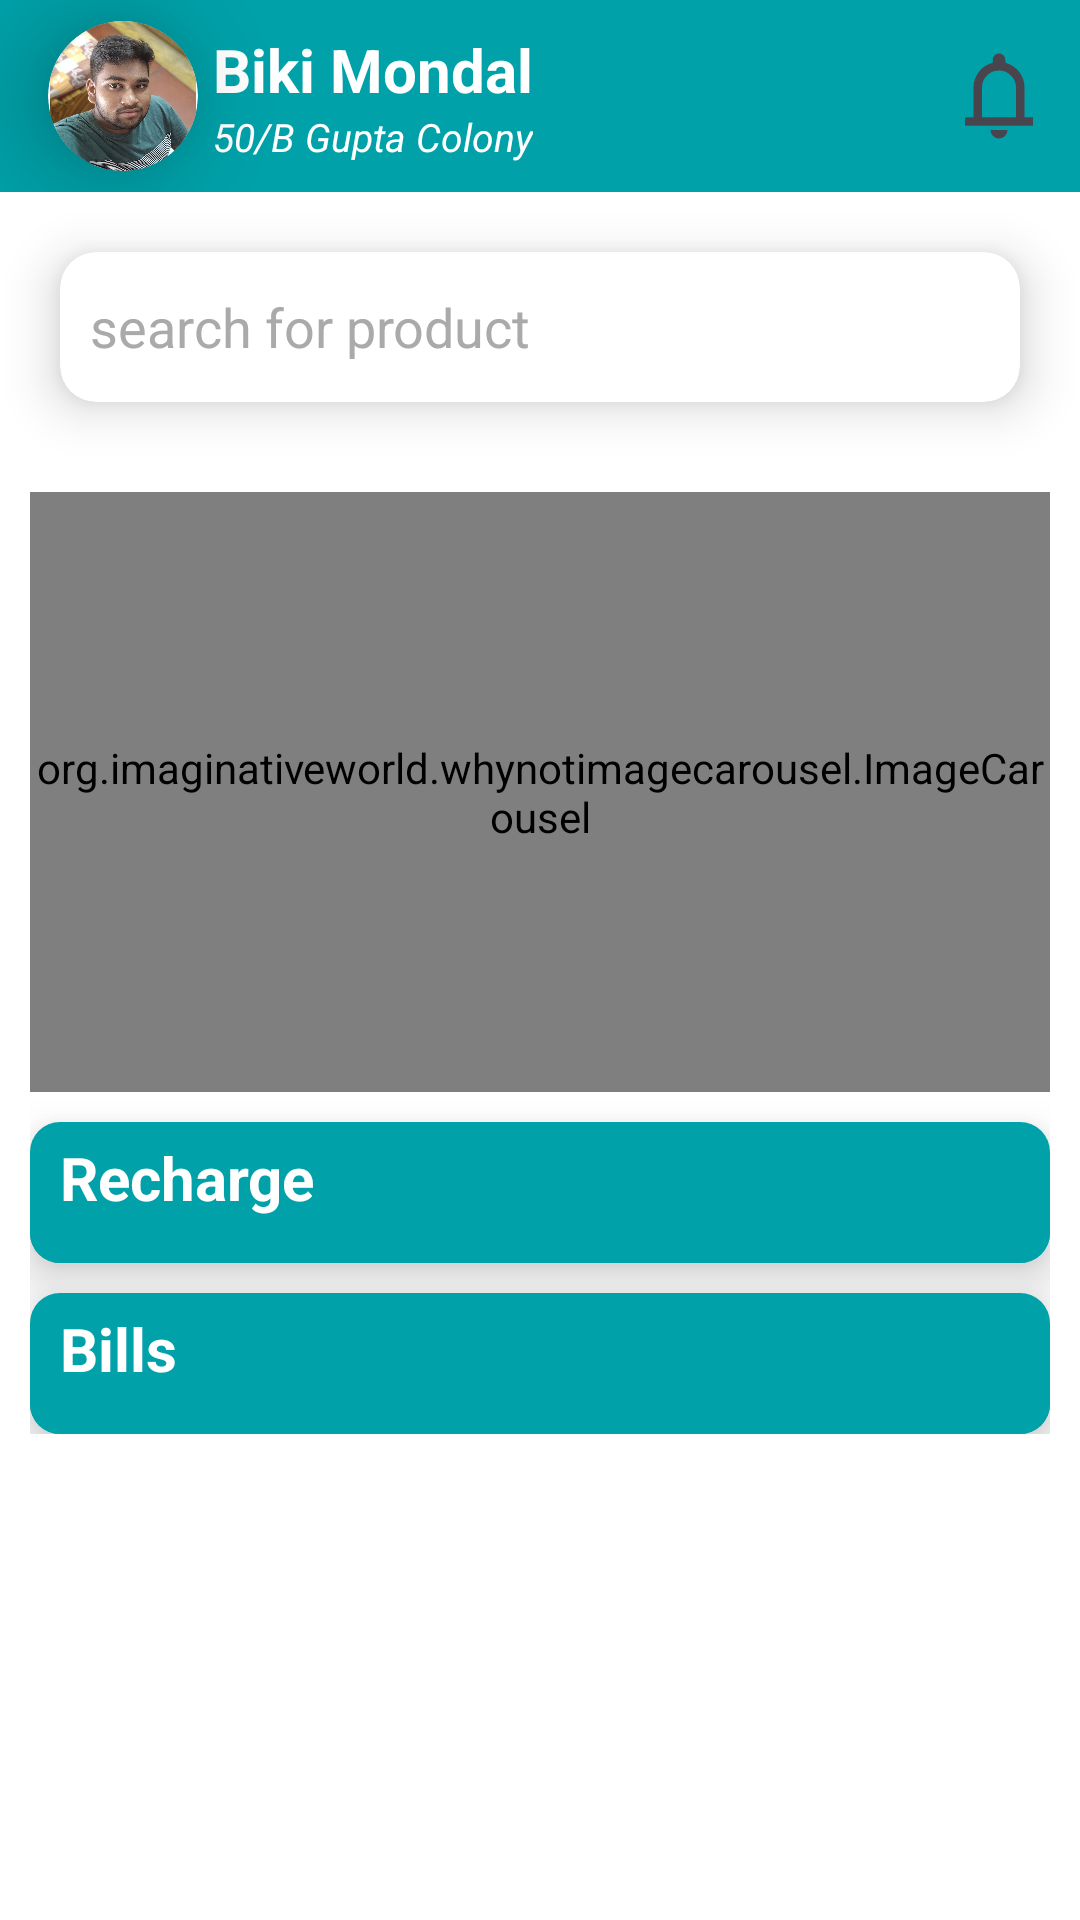

Named icons in this screenshot (1080*1920) and their centers, (x=x, y=y):
notifications: (x=999, y=96)
profile: (x=123, y=96)
